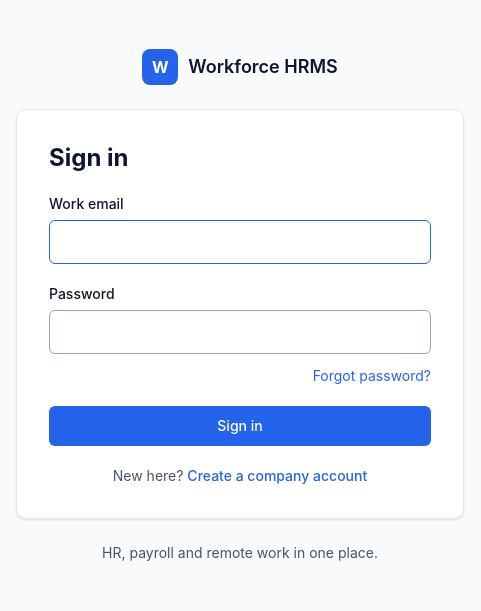
Test: wrong password shows the server message
Type "priya@example.com" into the field labelled "Work email". click: (240, 242)
box: [49, 220, 431, 264]
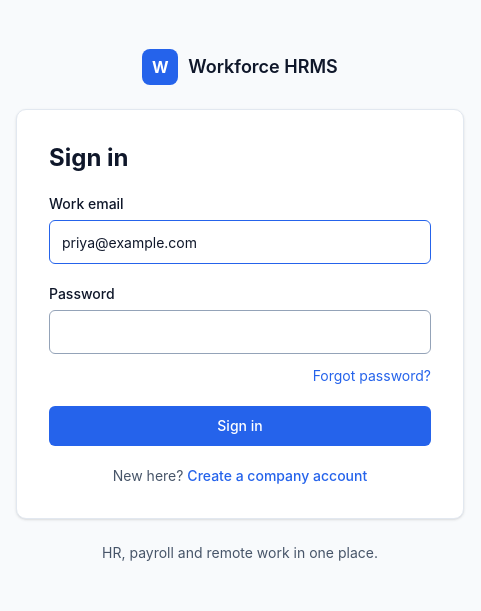
Type "wrong-password" into the password field labelled "Password". click: (240, 332)
box: [49, 310, 431, 354]
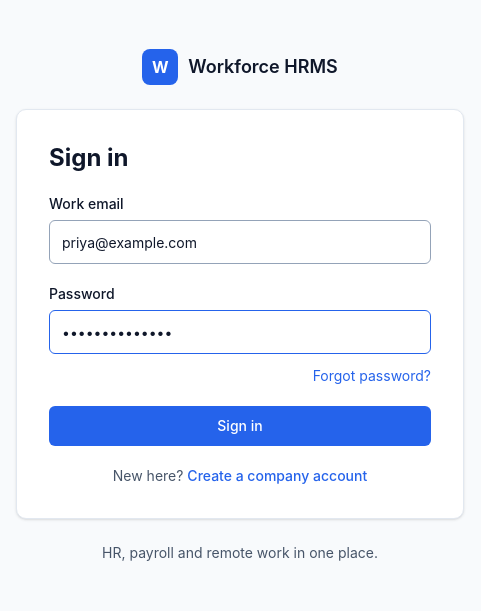
Click the button "Sign in". click: click(240, 426)
box: [49, 406, 431, 446]
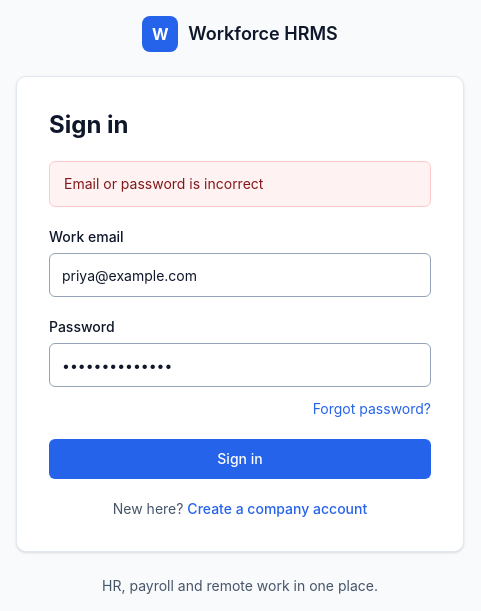
Expected: the message reads "Email or password is incorrect", [64, 175, 263, 192]
